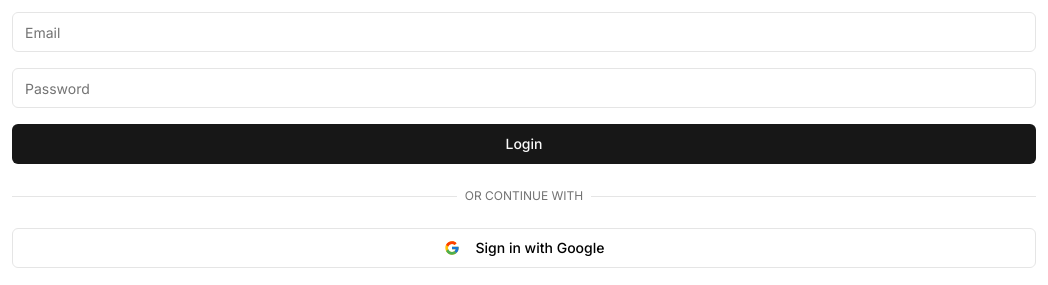
Test: LoginForm › disables login button while submitting
Fill out the form
Type "test@example.com" into the field with placeholder "Email".
click(524, 32); type("test@example.com")  # box [12,12,1036,52]
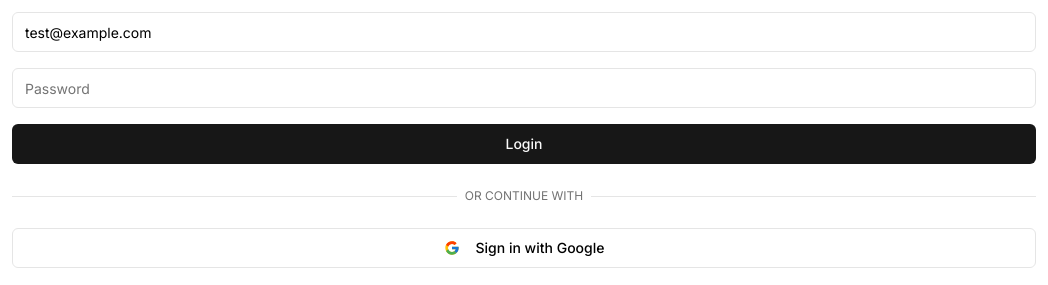
Type "password123" into the password field with placeholder "Password".
click(524, 88); type("password123")  # box [12,68,1036,108]
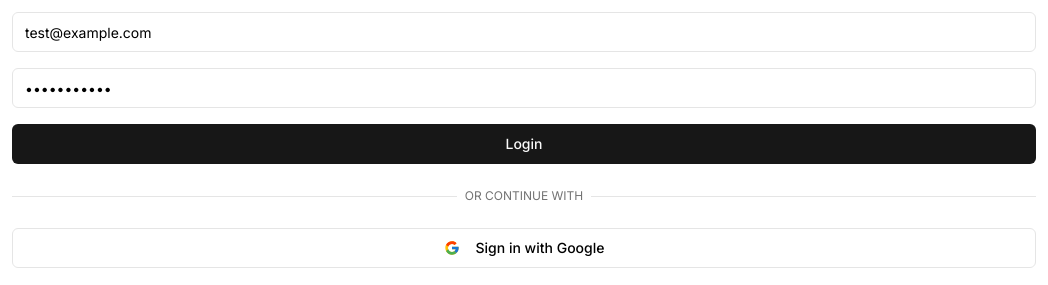
Submit the form
Submit the form from the button "Login", box [12,124,1036,164]
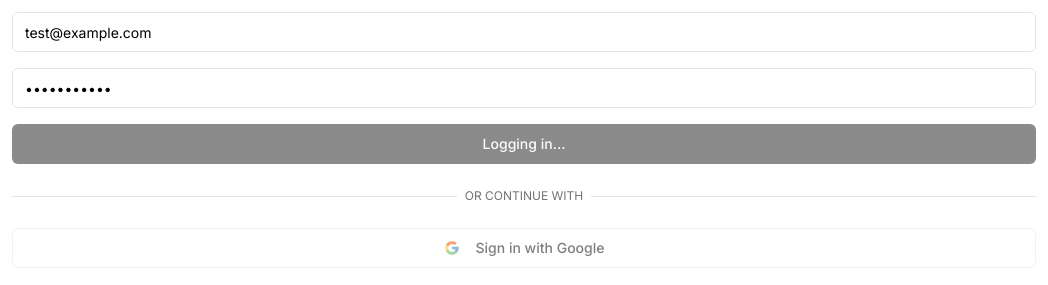
Now the button named "login" is disabled, box [12,124,1036,164]
Now the button named "login" shows "Logging in", box [12,124,1036,164]
